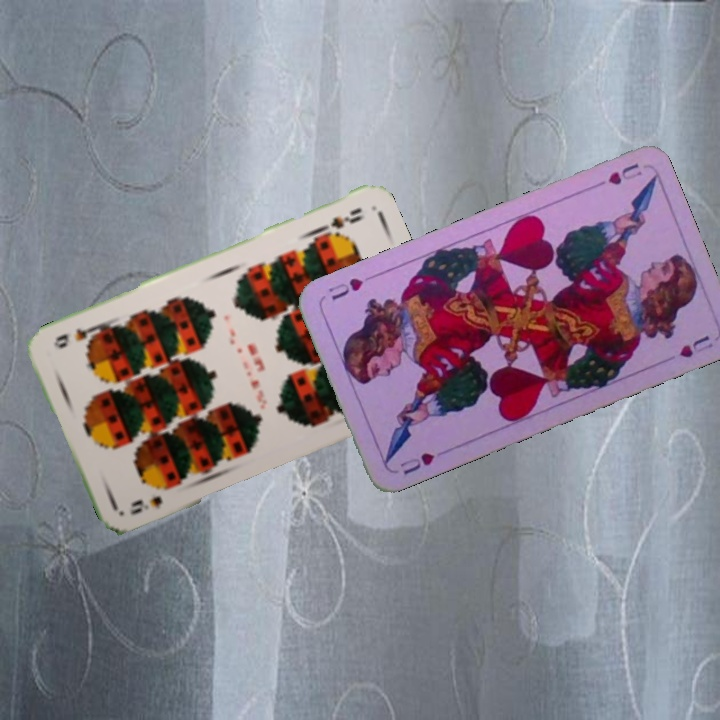HU: (588, 159, 645, 191), (395, 448, 437, 477)
S9: (314, 203, 364, 238), (126, 492, 165, 518)
